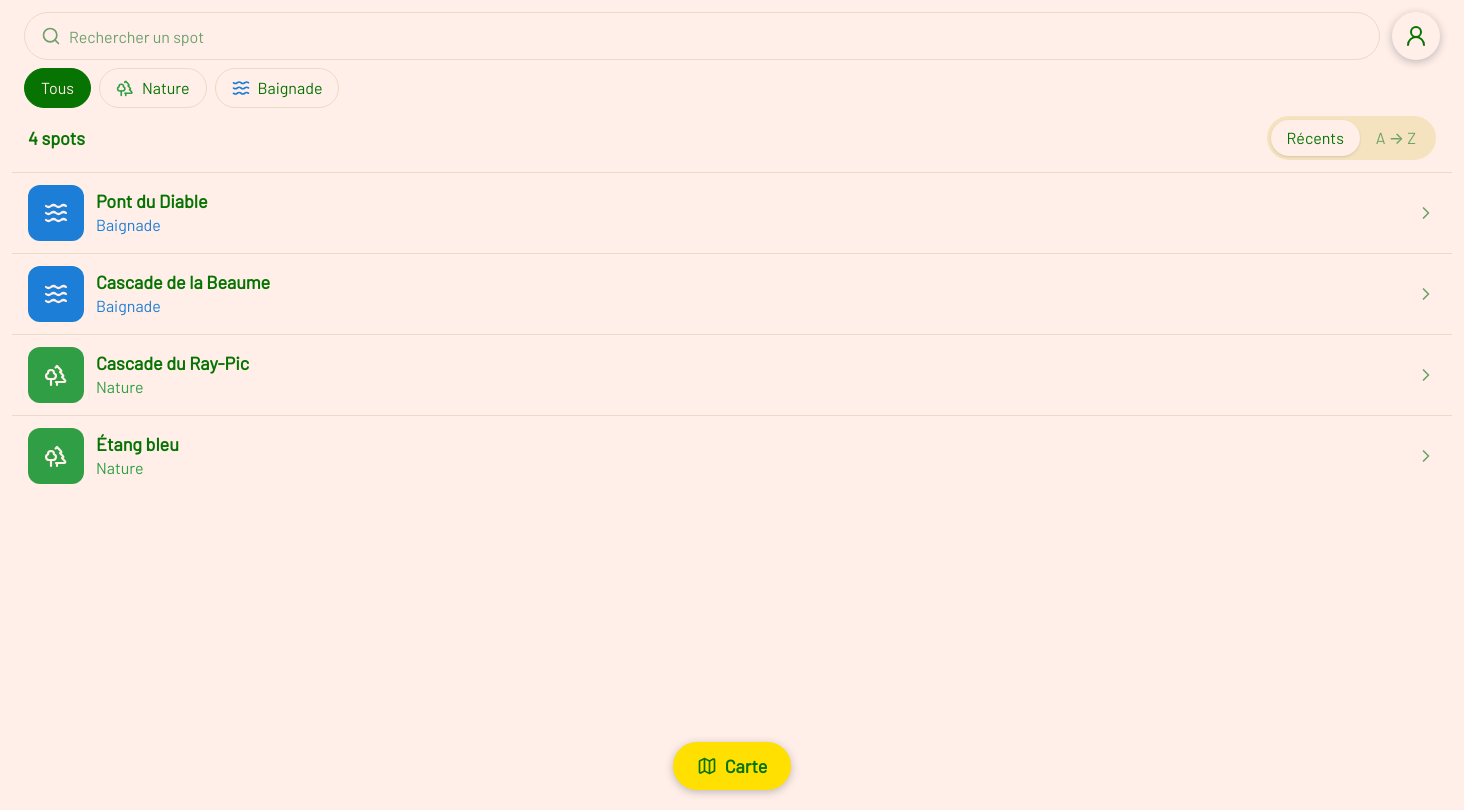
Test case: ListScreen › combine recherche et type, et explique une liste vide
Expected: the heading "4 spots" is shown, [28, 124, 85, 152]
Type "cascade" into the search field at (722, 36), box [69, 13, 1375, 59]
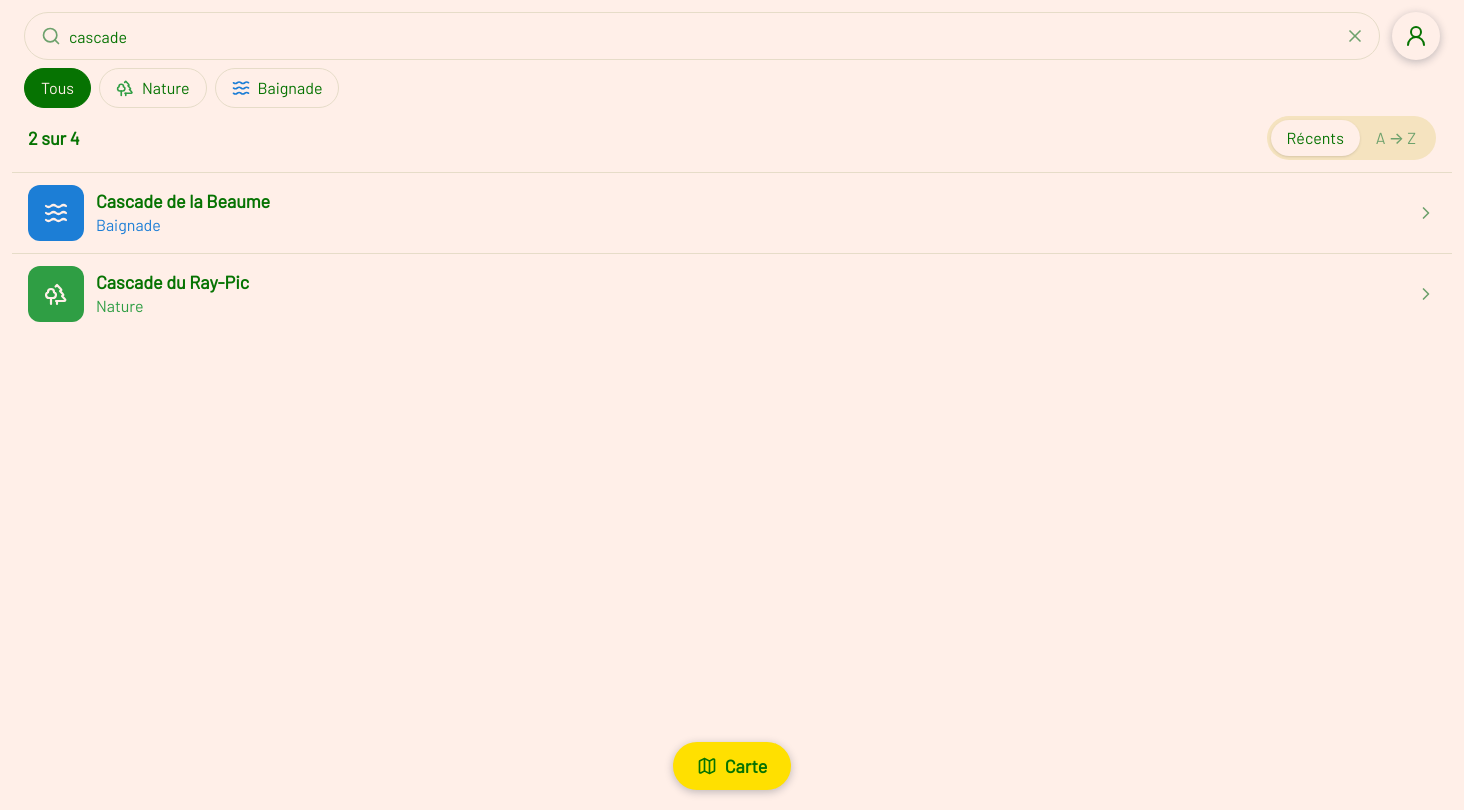
Click the button "Baignade" at (277, 88), box [215, 68, 339, 108]
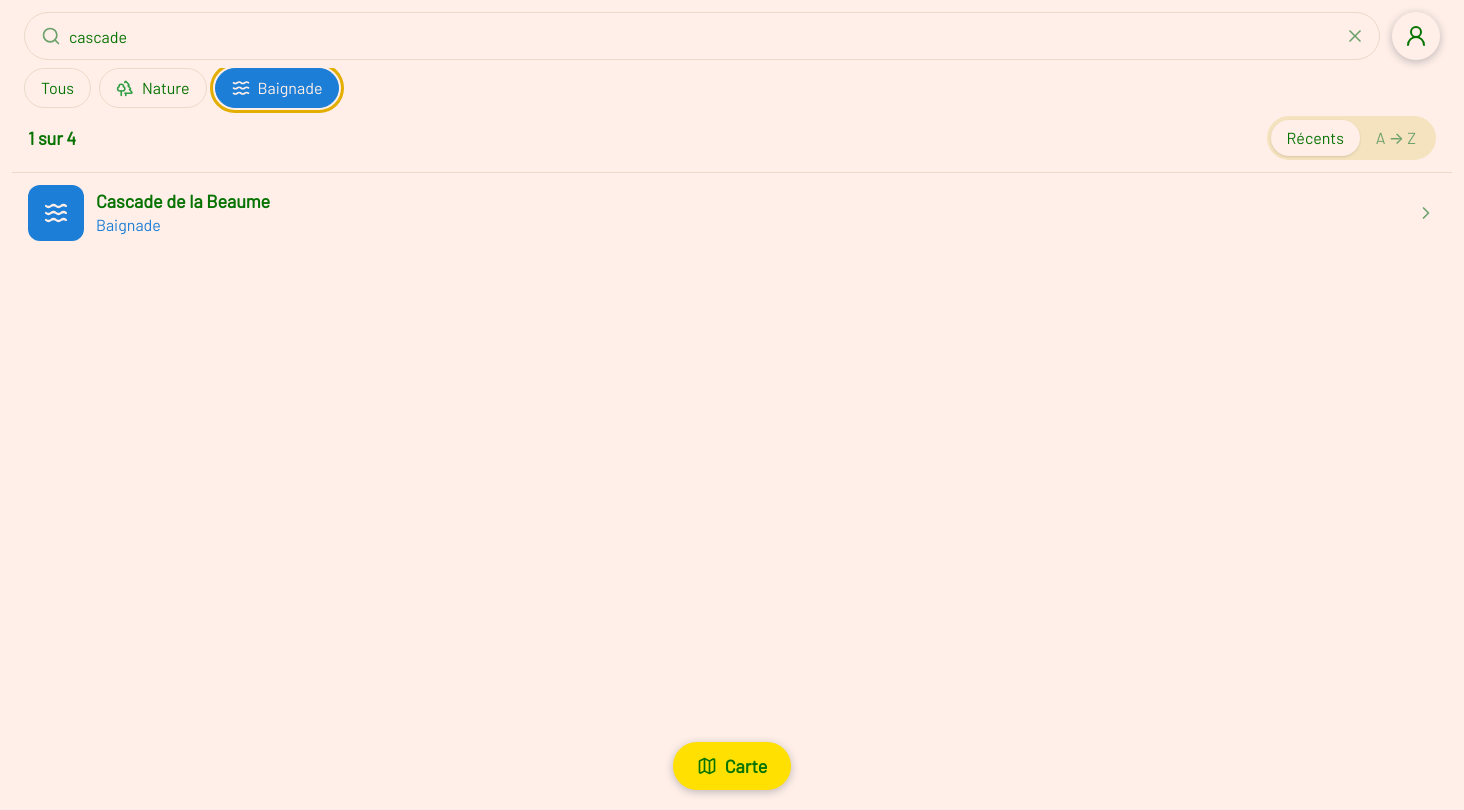
Type " introuvable" into the search field at (698, 36), box [69, 13, 1327, 59]
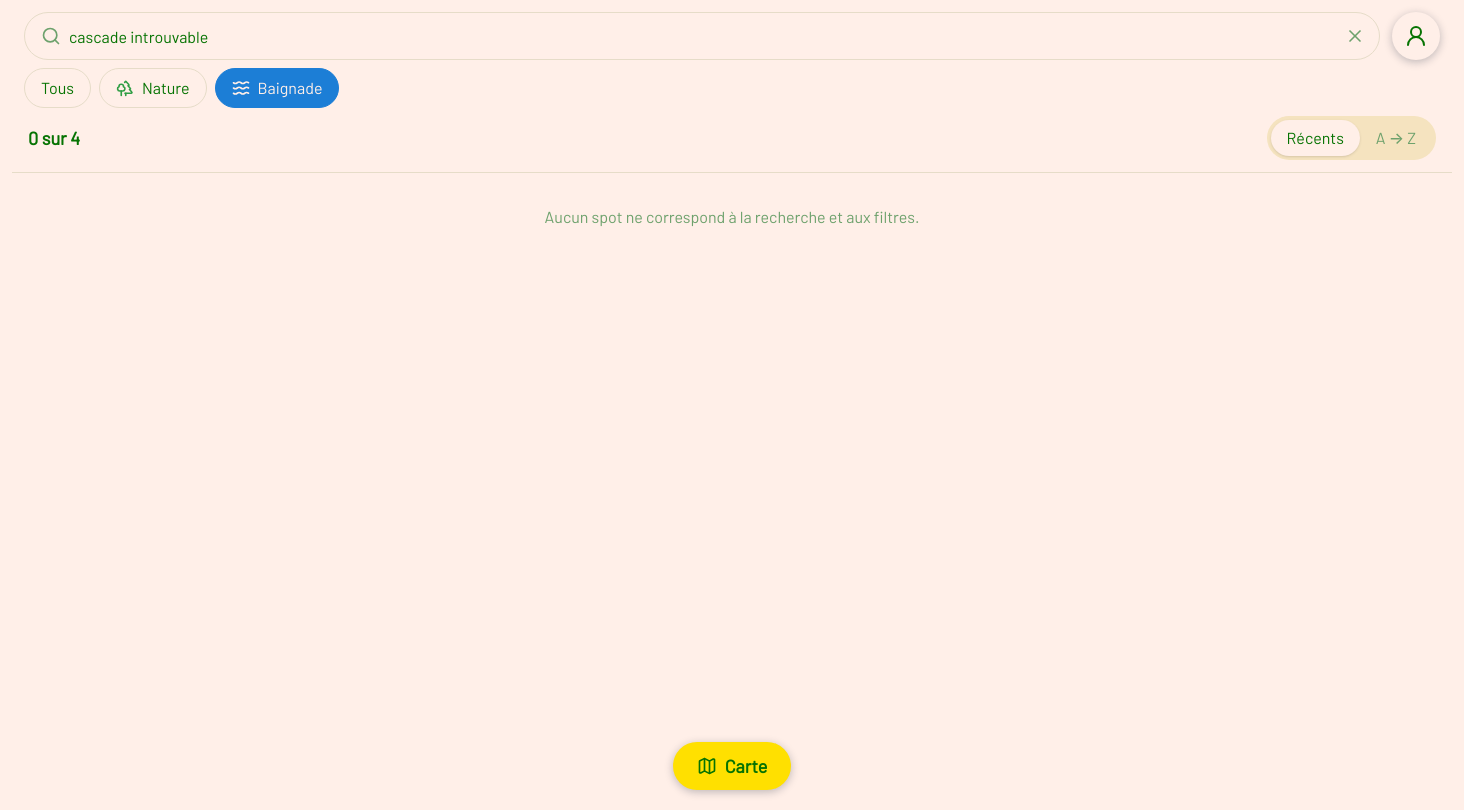
Result: the text "Aucun spot ne correspond à la recherche et aux filtres." is shown at [545, 207, 919, 226]
Result: the heading "0 sur 4" is shown at [28, 124, 80, 152]
